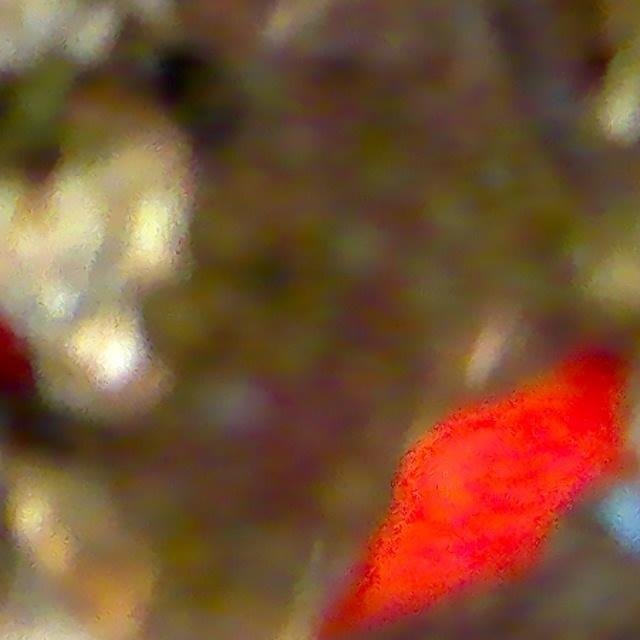SeaGrape: (313, 455, 400, 540), (191, 369, 276, 447), (141, 284, 221, 362), (325, 214, 398, 290), (269, 118, 324, 174)
